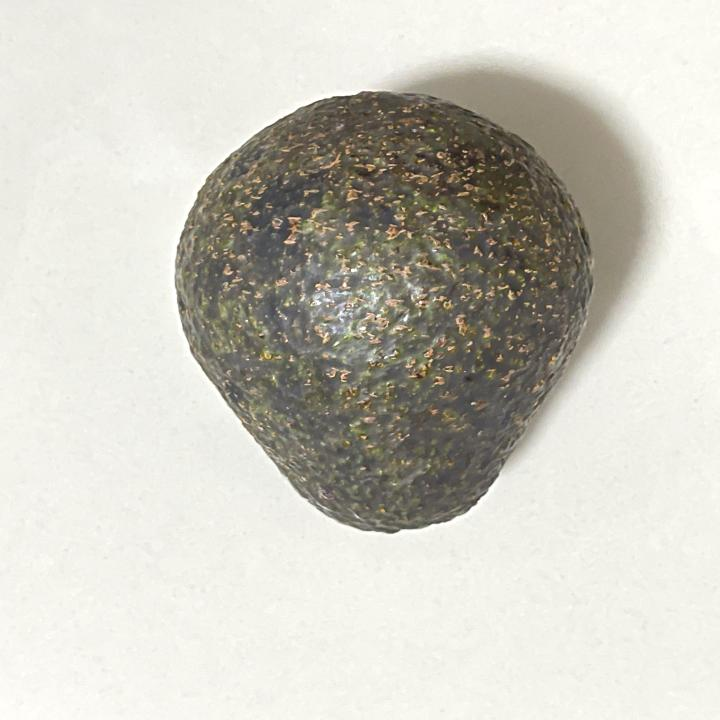Level1: (154, 84, 620, 554)
